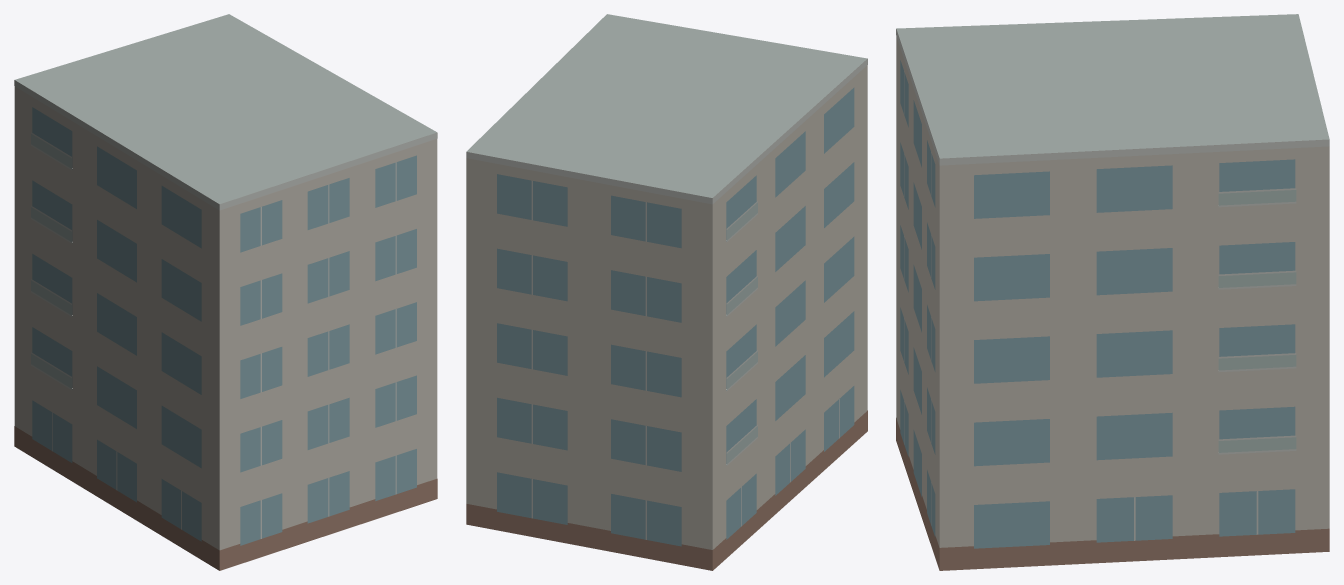
File: survey-upis-32890061.glb
The picture shows the model from 3 angles, left to right: view 1: azimuth 30°, elevation 25°; view 2: azimuth 150°, elevation 25°; view 3: azimuth 270°, elevation 25°; orthographic projection. The views are drawn at different scales.
Parts seen in each view (by area): view 1: survey-upis-32890061.tmp; view 2: survey-upis-32890061.tmp; view 3: survey-upis-32890061.tmp.
Boxes of the visible parts, box(x1,y1,x2,y2) form: survey-upis-32890061.tmp: box(14, 14, 437, 570); survey-upis-32890061.tmp: box(466, 14, 867, 570); survey-upis-32890061.tmp: box(896, 14, 1329, 570).
Size of the model in its own units: 10.84 by 14.4 by 13.73.
